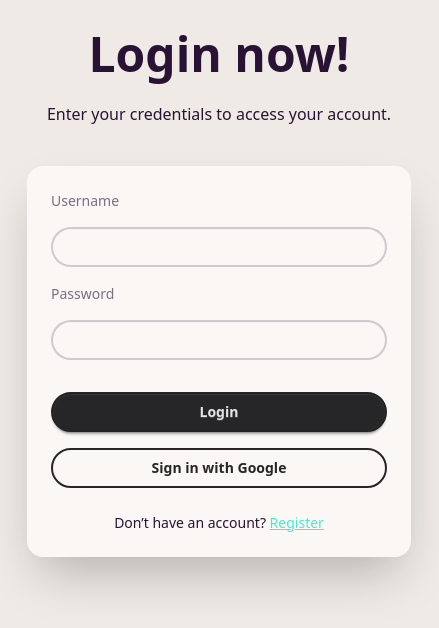
<Login /> › displays error message on bad credentials
The width and height of the screenshot is (439, 628).
Type "joe" into the field labelled "Username" at [219, 246], box [51, 226, 387, 266]
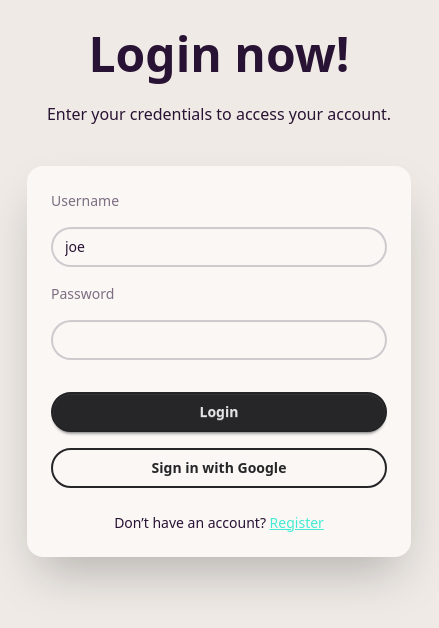
Type "wrong" into the password field labelled "Password" at [219, 340], box [51, 320, 387, 360]
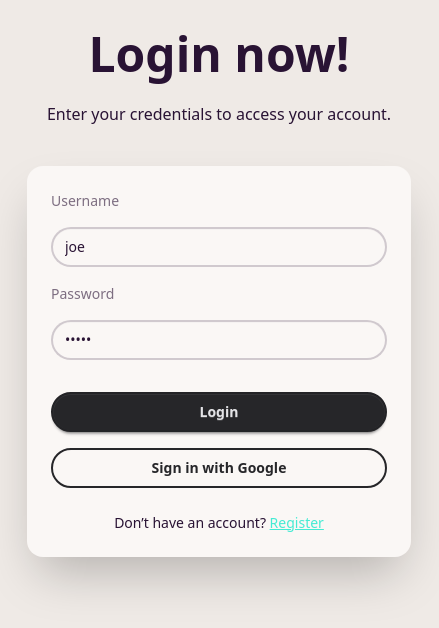
Click the button "Login" at [219, 412], box [51, 392, 387, 432]
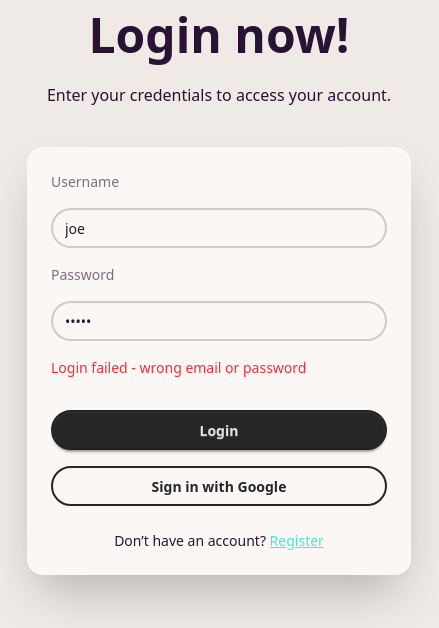
Check: the text "Login failed - wrong email or password" is shown, box [51, 358, 306, 377]
